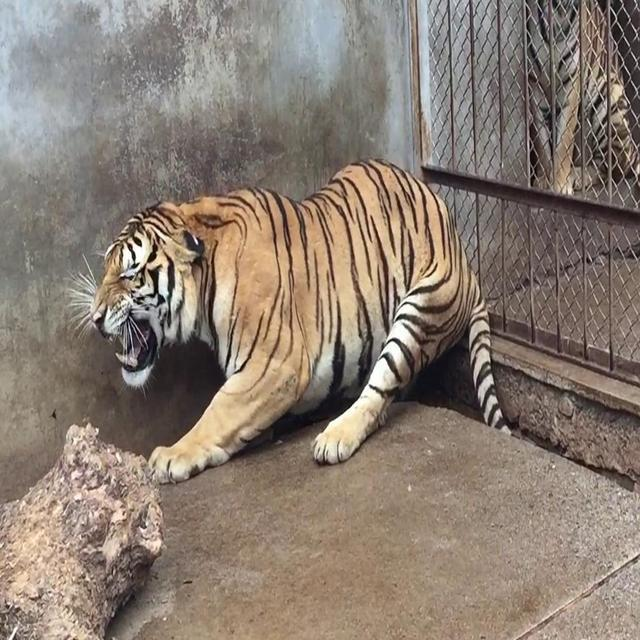tiger: (64, 156, 515, 485)
